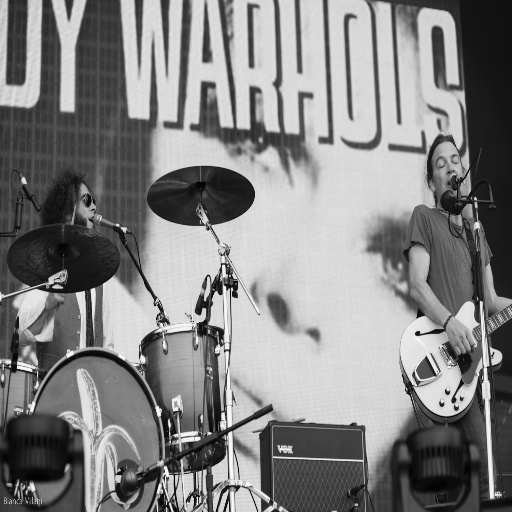hand: (404, 201, 476, 361), (45, 290, 65, 314)
